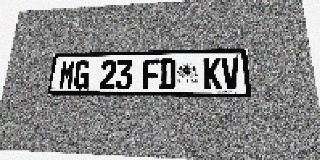2: (100, 60, 117, 89)
3: (115, 59, 133, 89)
D: (159, 59, 176, 89)
F: (142, 59, 159, 89)
G: (73, 60, 91, 89)
K: (203, 58, 222, 90)
M: (58, 61, 76, 89)
V: (221, 57, 241, 90)
